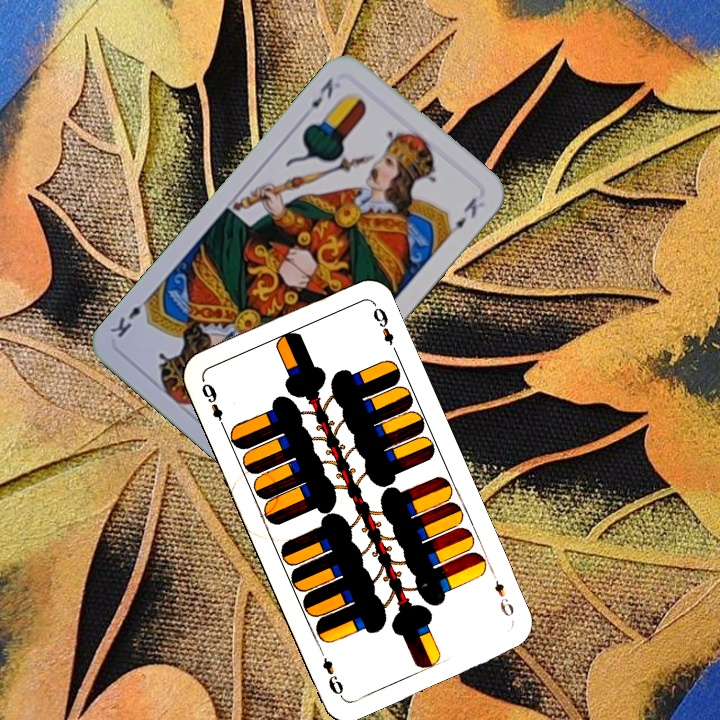E9: (197, 379, 229, 433), (490, 576, 517, 620)
EK: (306, 73, 336, 111)
